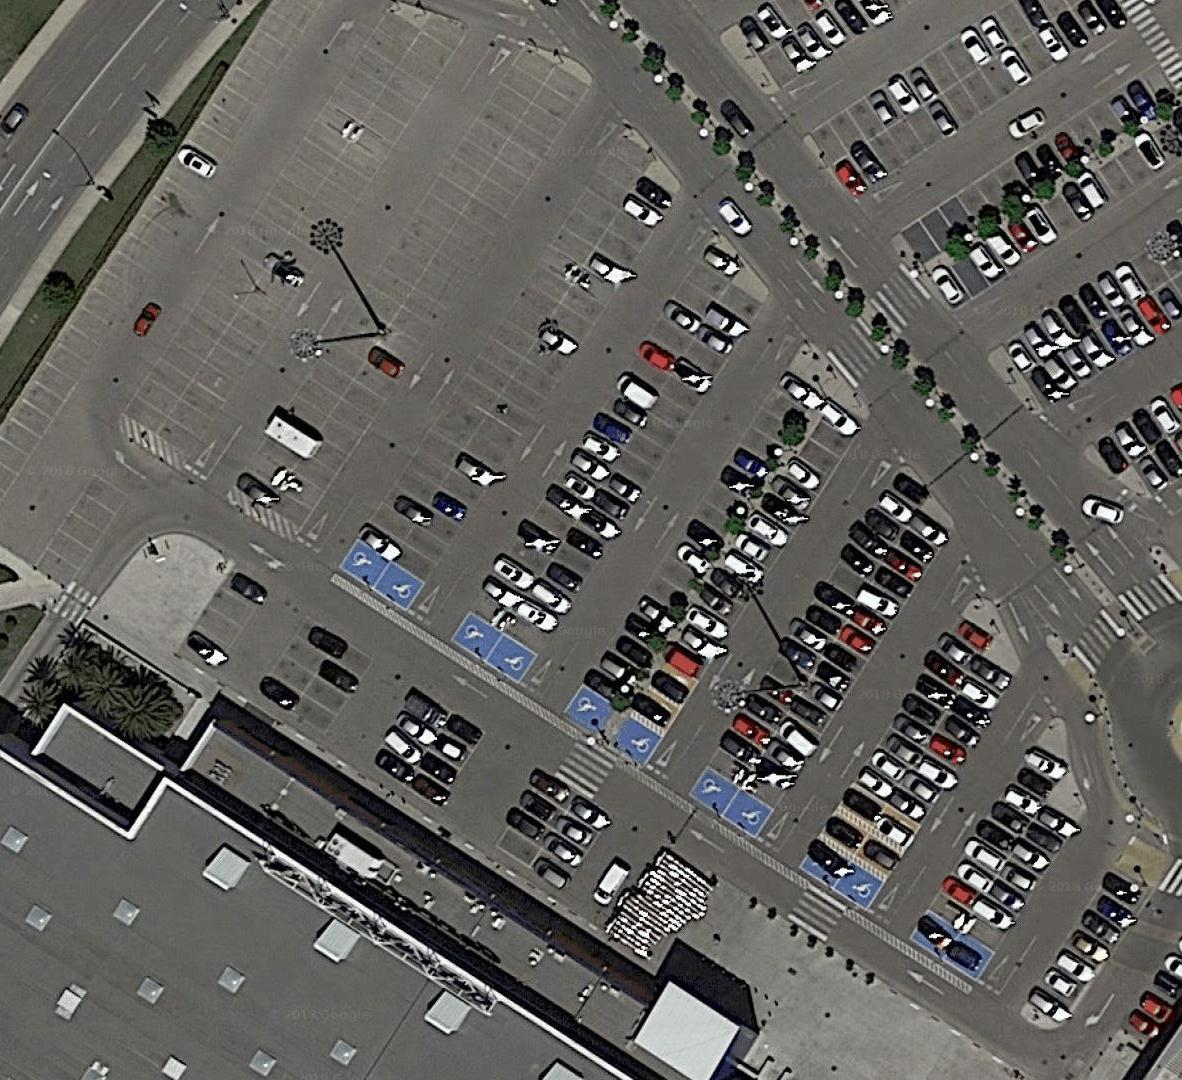parkingspot: (0, 0, 329, 510), (230, 42, 558, 513), (266, 62, 593, 533), (335, 132, 657, 591), (152, 11, 470, 461), (371, 172, 680, 613), (119, 6, 425, 439), (447, 241, 744, 664), (483, 279, 766, 686), (558, 365, 823, 739), (609, 396, 870, 772), (686, 466, 932, 818), (720, 506, 955, 840), (828, 0, 1134, 204), (895, 60, 1179, 266), (796, 611, 998, 891), (927, 108, 1182, 317), (831, 654, 1017, 913), (806, 0, 1091, 168), (908, 742, 1069, 962), (998, 219, 1182, 379), (942, 801, 1084, 985), (1019, 270, 1181, 417), (1021, 863, 1148, 1025), (755, 0, 927, 93), (31, 471, 130, 592), (173, 565, 272, 680), (1091, 376, 1182, 478), (526, 791, 615, 893), (255, 615, 344, 716), (288, 636, 377, 736), (491, 769, 579, 870), (402, 709, 487, 811), (369, 687, 453, 789), (1120, 930, 1182, 1045), (734, 0, 855, 58), (1129, 428, 1182, 501)
